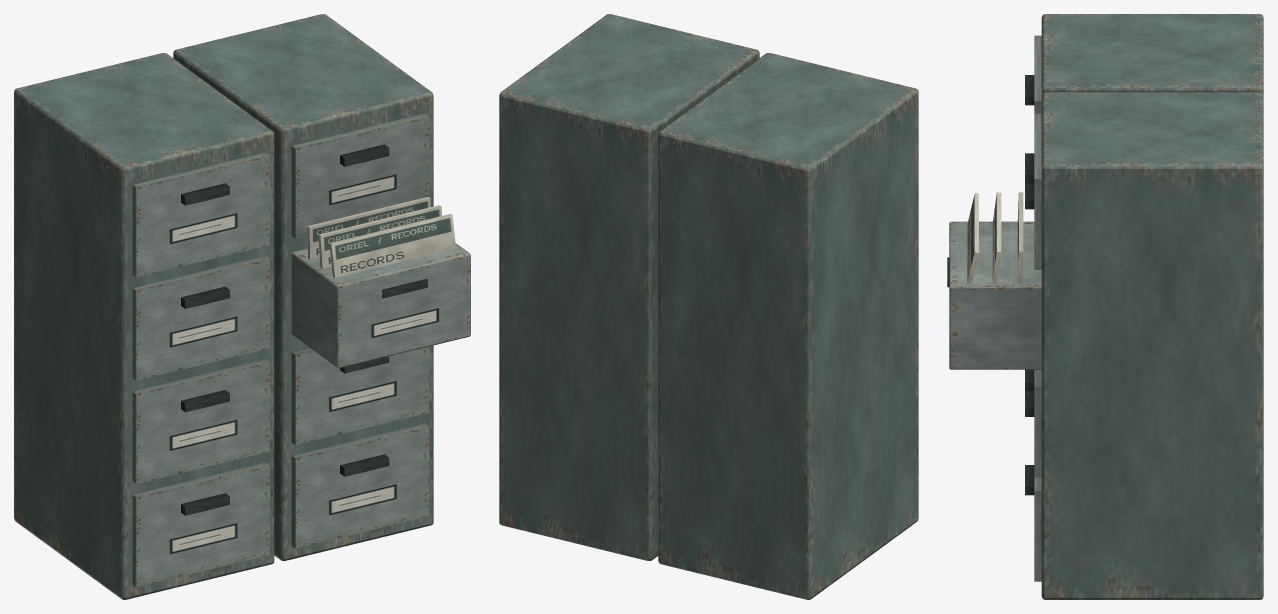
The model's file is filing_cabinets.glb.
3 renders of one model, left to right at view 1: azimuth 30°, elevation 25°; view 2: azimuth 150°, elevation 25°; view 3: azimuth 270°, elevation 25°, orthographic.
Visible parts, largest first — view 1: FilingCabinets; view 2: FilingCabinets; view 3: FilingCabinets.
Part boxes in pixels (box(x1,y1,x2,y2)): FilingCabinets: box(14, 14, 470, 599); FilingCabinets: box(499, 14, 918, 599); FilingCabinets: box(947, 14, 1263, 599).
Bounding box in the file's own units: 0.98 × 1.3 × 0.855.
Materials: 1 (1 with a texture image).
